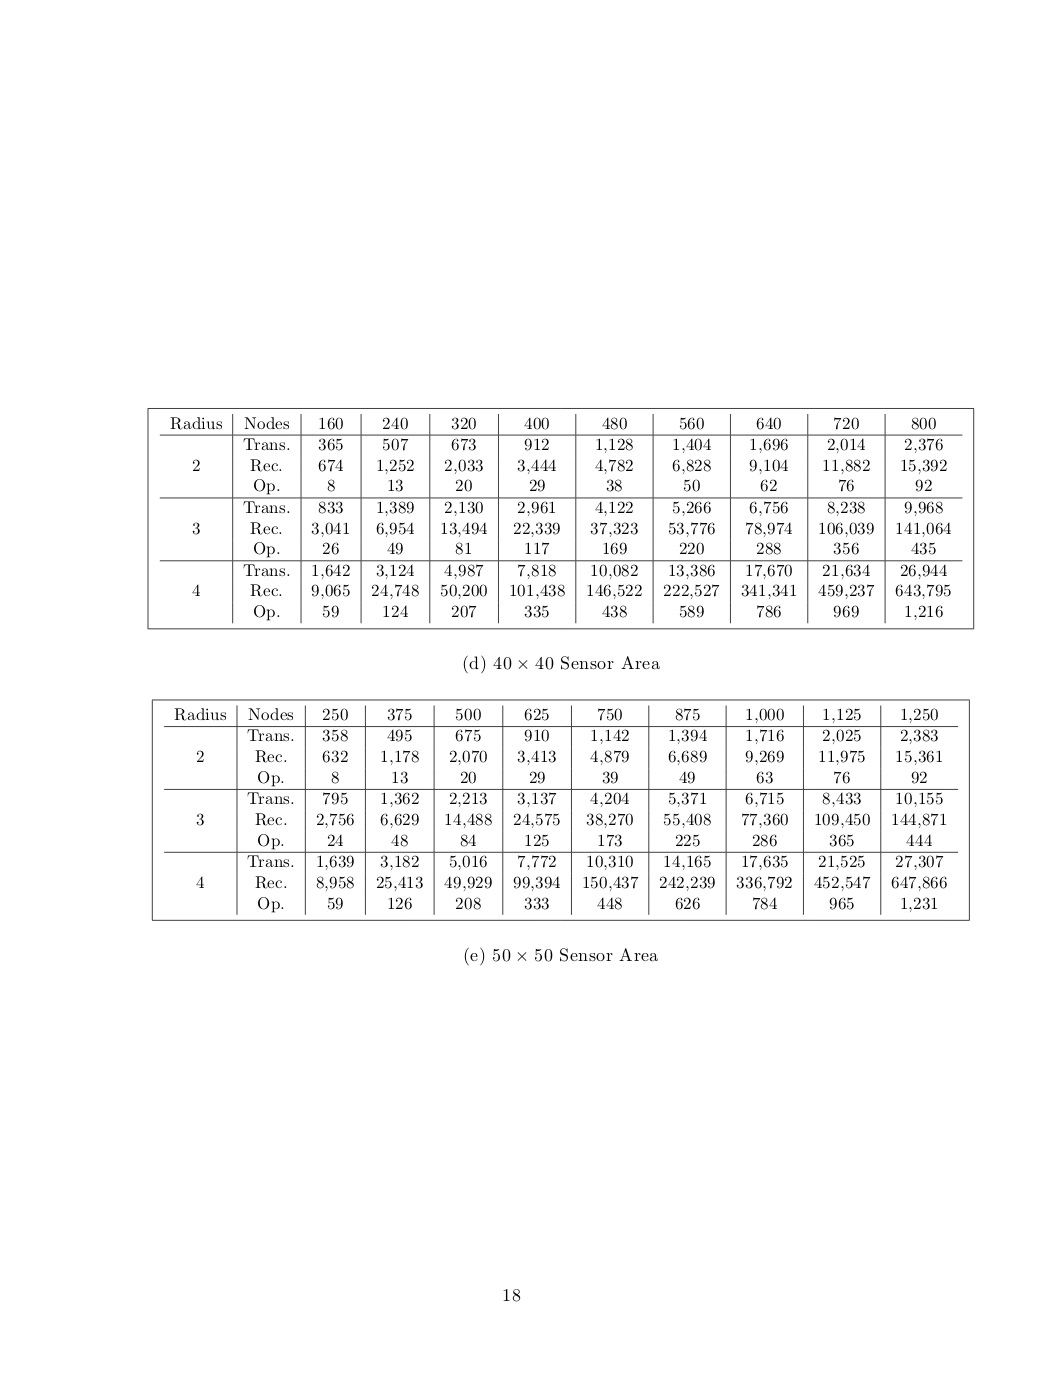Table: (147, 407, 974, 630), (150, 698, 968, 921)
